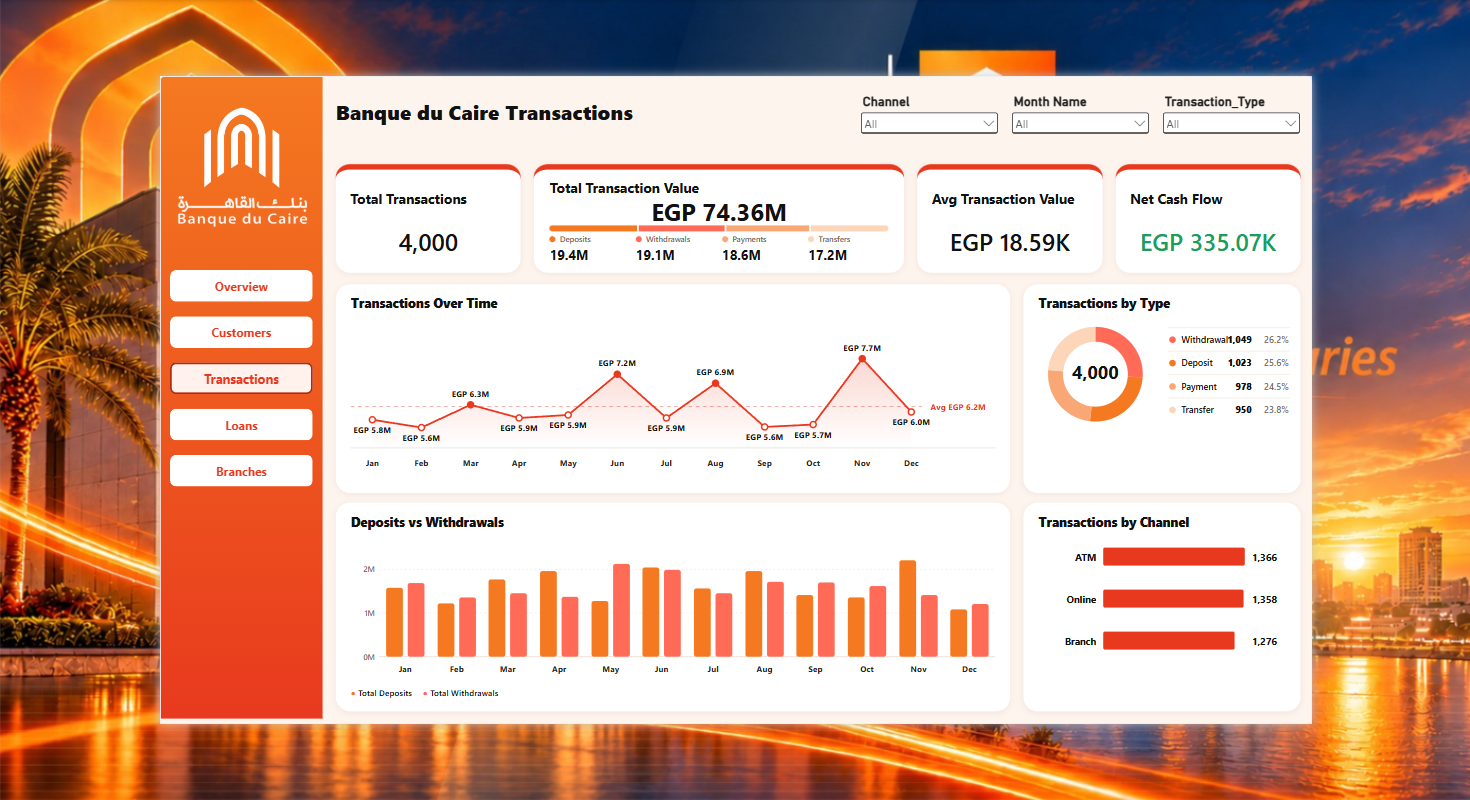

What the dashboard file says about the page in this screenshot:
{"tool":"powerbi","page":{"name":"Transactions","canvas":[1920,1080],"ordinal":3},"visuals":[{"type":"htmlContent443BE3AD55E043BF878BED274D3A6855","fields":{"content":["Html.HTML Banque Transactions"]},"box":[0,0,1920,1080],"z":0},{"type":"image","box":[38.4,0,195,240.5],"z":1000},{"type":"image","box":[0,162.5,255,131.2],"z":2000},{"type":"slicer","fields":{"Values":["Transactions Fact.Transaction_Type"]},"box":[1667.3,30.8,238.5,76.9],"z":3000},{"type":"slicer","fields":{"Values":["Date Dim.Month Name"]},"box":[1415.4,30.8,238.3,76.7],"z":4000},{"type":"slicer","fields":{"Values":["Transactions Fact.Channel"]},"box":[1163.5,30.8,238.3,76.7],"z":5000},{"type":"pageNavigator","box":[16.7,323.3,238.9,361.1],"z":6000}]}

Visuals, with their boxes on the page's 1920x1080 design canvas (x1, y1, x2, y2). These are canvas units, not pixel positions in the 1470x800 screenshot, which may show the page scaled, cropped or inside an application window:
htmlContent443BE3AD55E043BF878BED274D3A6855 - Html.HTML Banque Transactions: <region>0, 0, 1920, 1080</region>
image: <region>38, 0, 233, 240</region>
image: <region>0, 162, 255, 294</region>
slicer - Transactions Fact.Transaction_Type: <region>1667, 31, 1906, 108</region>
slicer - Date Dim.Month Name: <region>1415, 31, 1654, 108</region>
slicer - Transactions Fact.Channel: <region>1164, 31, 1402, 108</region>
pageNavigator: <region>17, 323, 256, 684</region>
